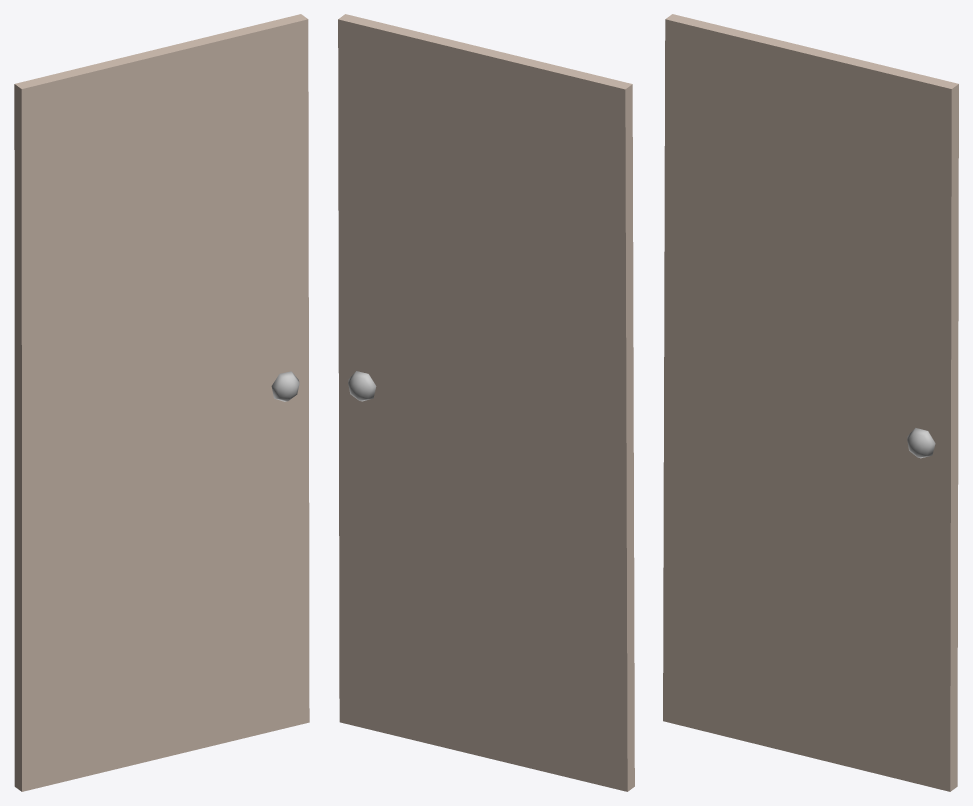
The model's file is env_door_rectangular.fbx.
3 renders of one model, left to right at view 1: azimuth 30°, elevation 25°; view 2: azimuth 150°, elevation 25°; view 3: azimuth 330°, elevation 25°, orthographic.
Parts seen in each view (by area): view 1: Casa puerta rectang; view 2: Casa puerta rectang; view 3: Casa puerta rectang.
Boxes of the visible parts, bbox=[...] form: Casa puerta rectang: bbox=[14, 14, 309, 791]; Casa puerta rectang: bbox=[338, 14, 634, 791]; Casa puerta rectang: bbox=[663, 14, 958, 791].
Bounding box in the file's own units: 90 × 210 × 14.
2 materials, 2 textured.
